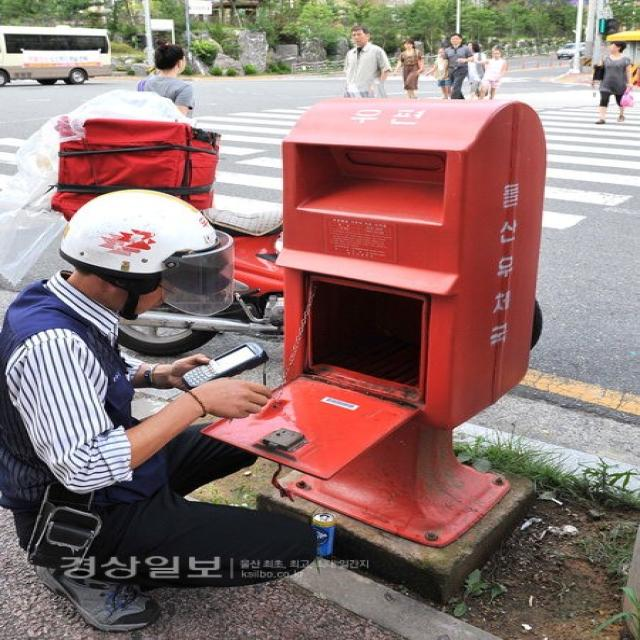Post Box: (196, 96, 550, 550)
